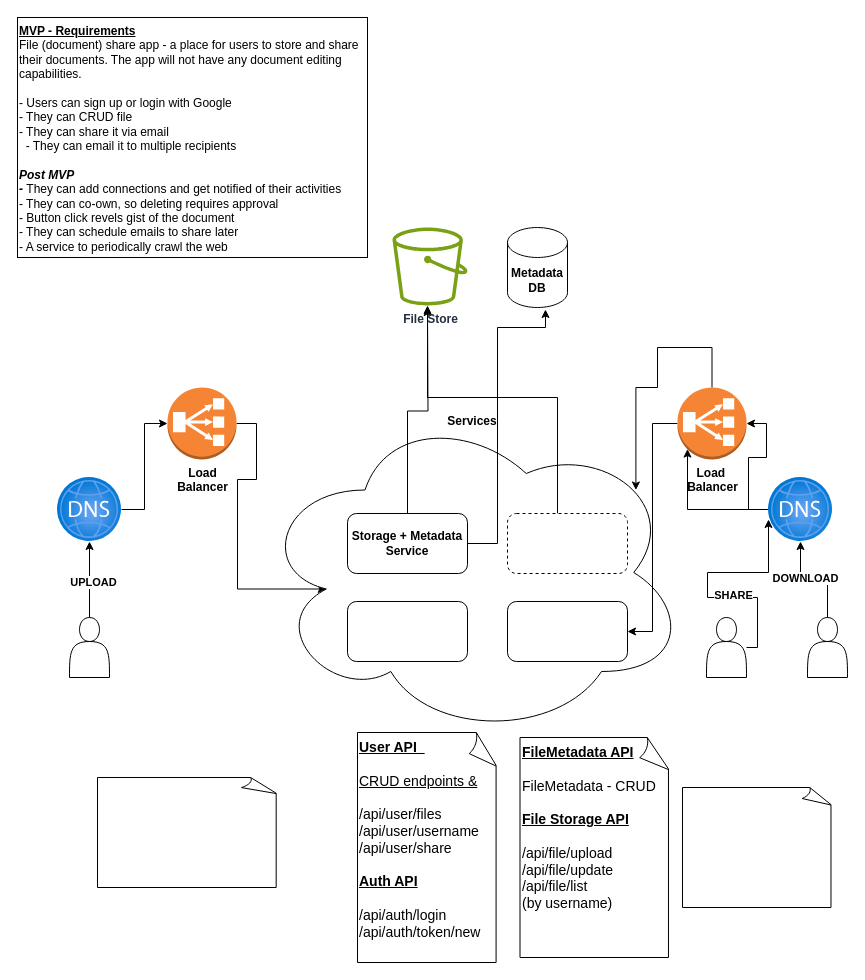
This 865x980 diagram has some shape labels left out. The shapes that lost their labels are listed below. From the top down, each one's centre as x and y in pixels, then its label:
At (567,543): "Download Service".
At (407,631): "User + Auth Service".
At (567,631): "Social Service".
At (187,832): "Download Service Not part of MVP /api/{file-id}/download".
At (757,847): "Social API /api/social/sendMail".
